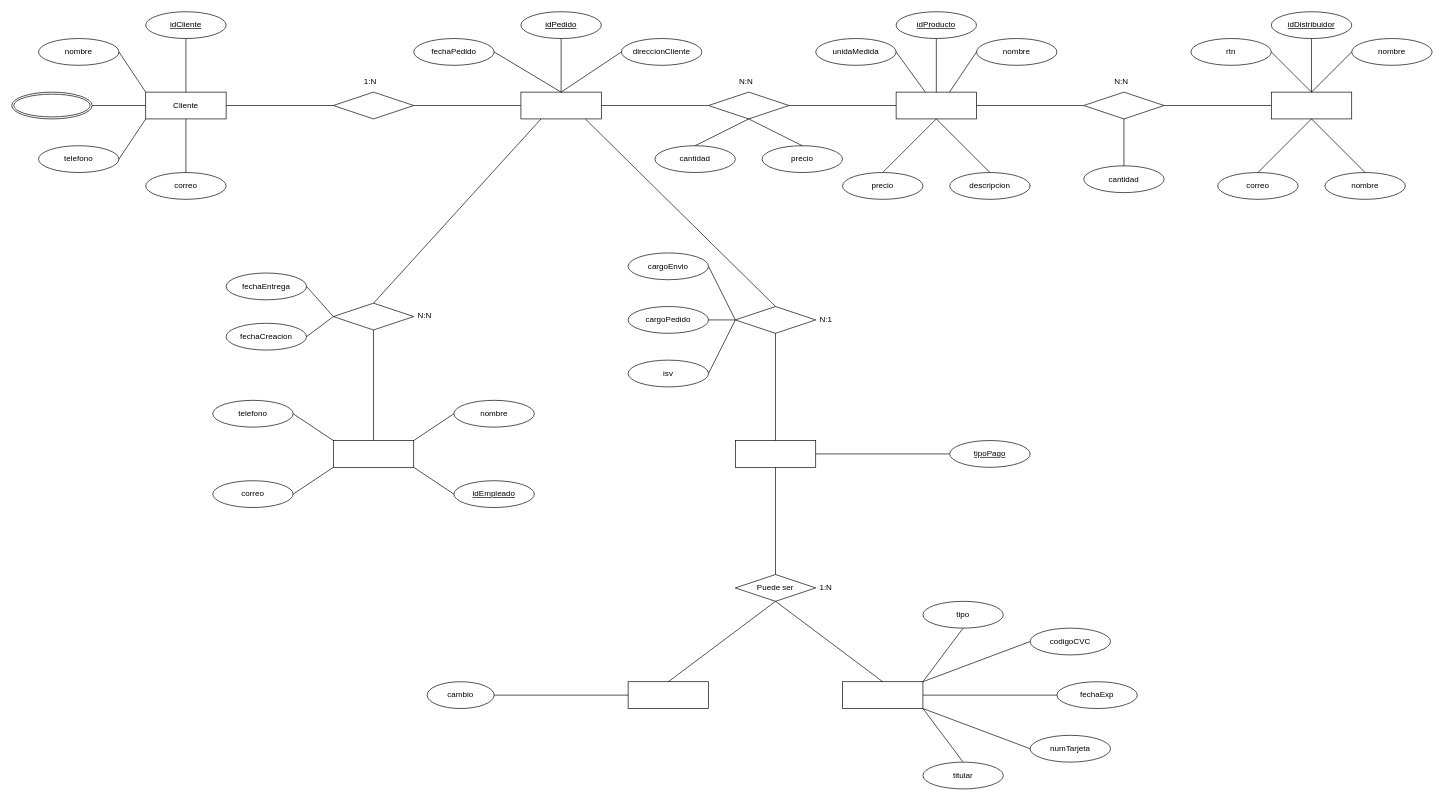
This 1444x801 diagram has some shape labels left out. The shapes that lost their labels are listed below. From the top down, each one's centre as x and y in pixels, then its label:
the point at 51,105: direccion
the point at 373,105: Hace
the point at 560,105: Pedido
the point at 748,105: Tiene
the point at 936,105: Producto
the point at 1123,105: Distrubuido
the point at 1311,105: Distribuidor
the point at 373,316: Se Despacha
the point at 775,319: Se paga
the point at 373,453: Empleado
the point at 775,453: MetodoPago
the point at 668,695: Efectivo
the point at 882,695: TarjetaCredio
